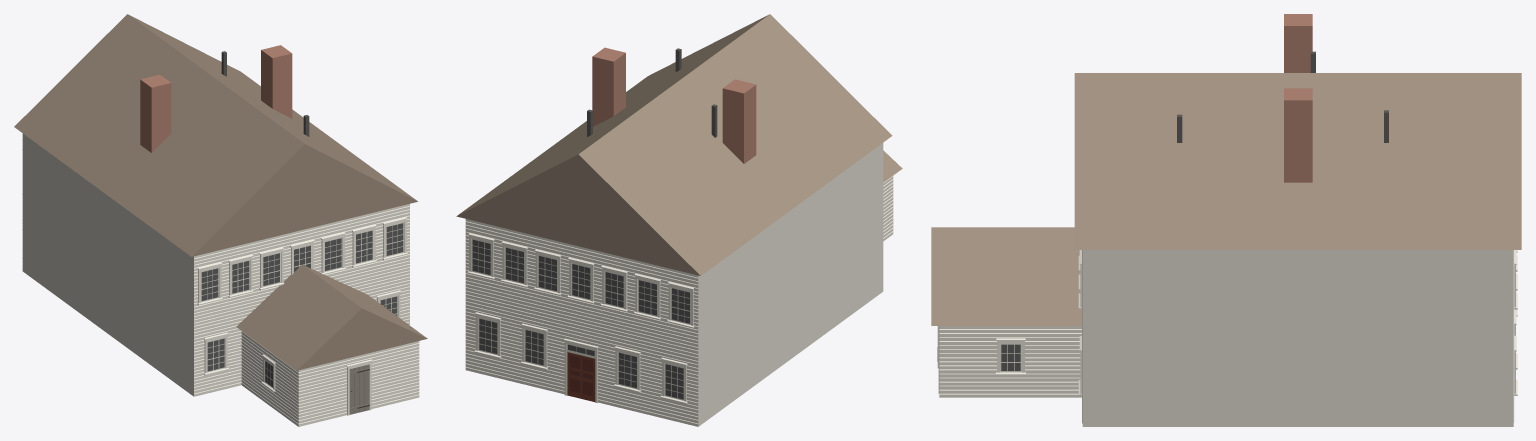
Rendered from recon_1835_core_h3_025__inferred_1835.glb.
3 renders of one model, left to right at view 1: azimuth 30°, elevation 25°; view 2: azimuth 150°, elevation 25°; view 3: azimuth 270°, elevation 25°, orthographic. The views are drawn at different scales.
Parts seen in each view (by area): view 1: recon_1835_core_h3_025__inferred_1835; view 2: recon_1835_core_h3_025__inferred_1835; view 3: recon_1835_core_h3_025__inferred_1835.
Part boxes in pixels (x1,y1,x2,y2): recon_1835_core_h3_025__inferred_1835: [14, 14, 427, 426]; recon_1835_core_h3_025__inferred_1835: [456, 14, 902, 426]; recon_1835_core_h3_025__inferred_1835: [931, 14, 1521, 426].
Bounding box in the file's own units: 10.33 × 10.51 × 18.52.
